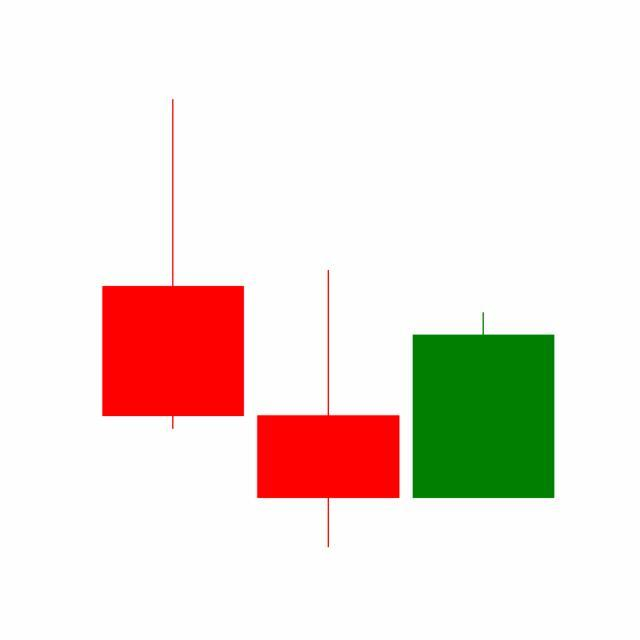Marubozu: (406, 310, 562, 500)
